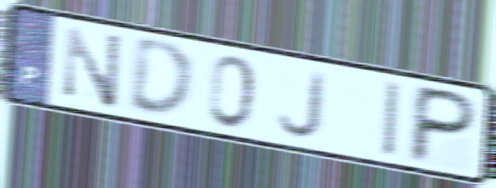0: (206, 53, 260, 130)
D: (125, 36, 198, 122)
I: (380, 77, 404, 162)
J: (276, 68, 331, 141)
N: (61, 23, 126, 113)
P: (402, 81, 482, 166)
